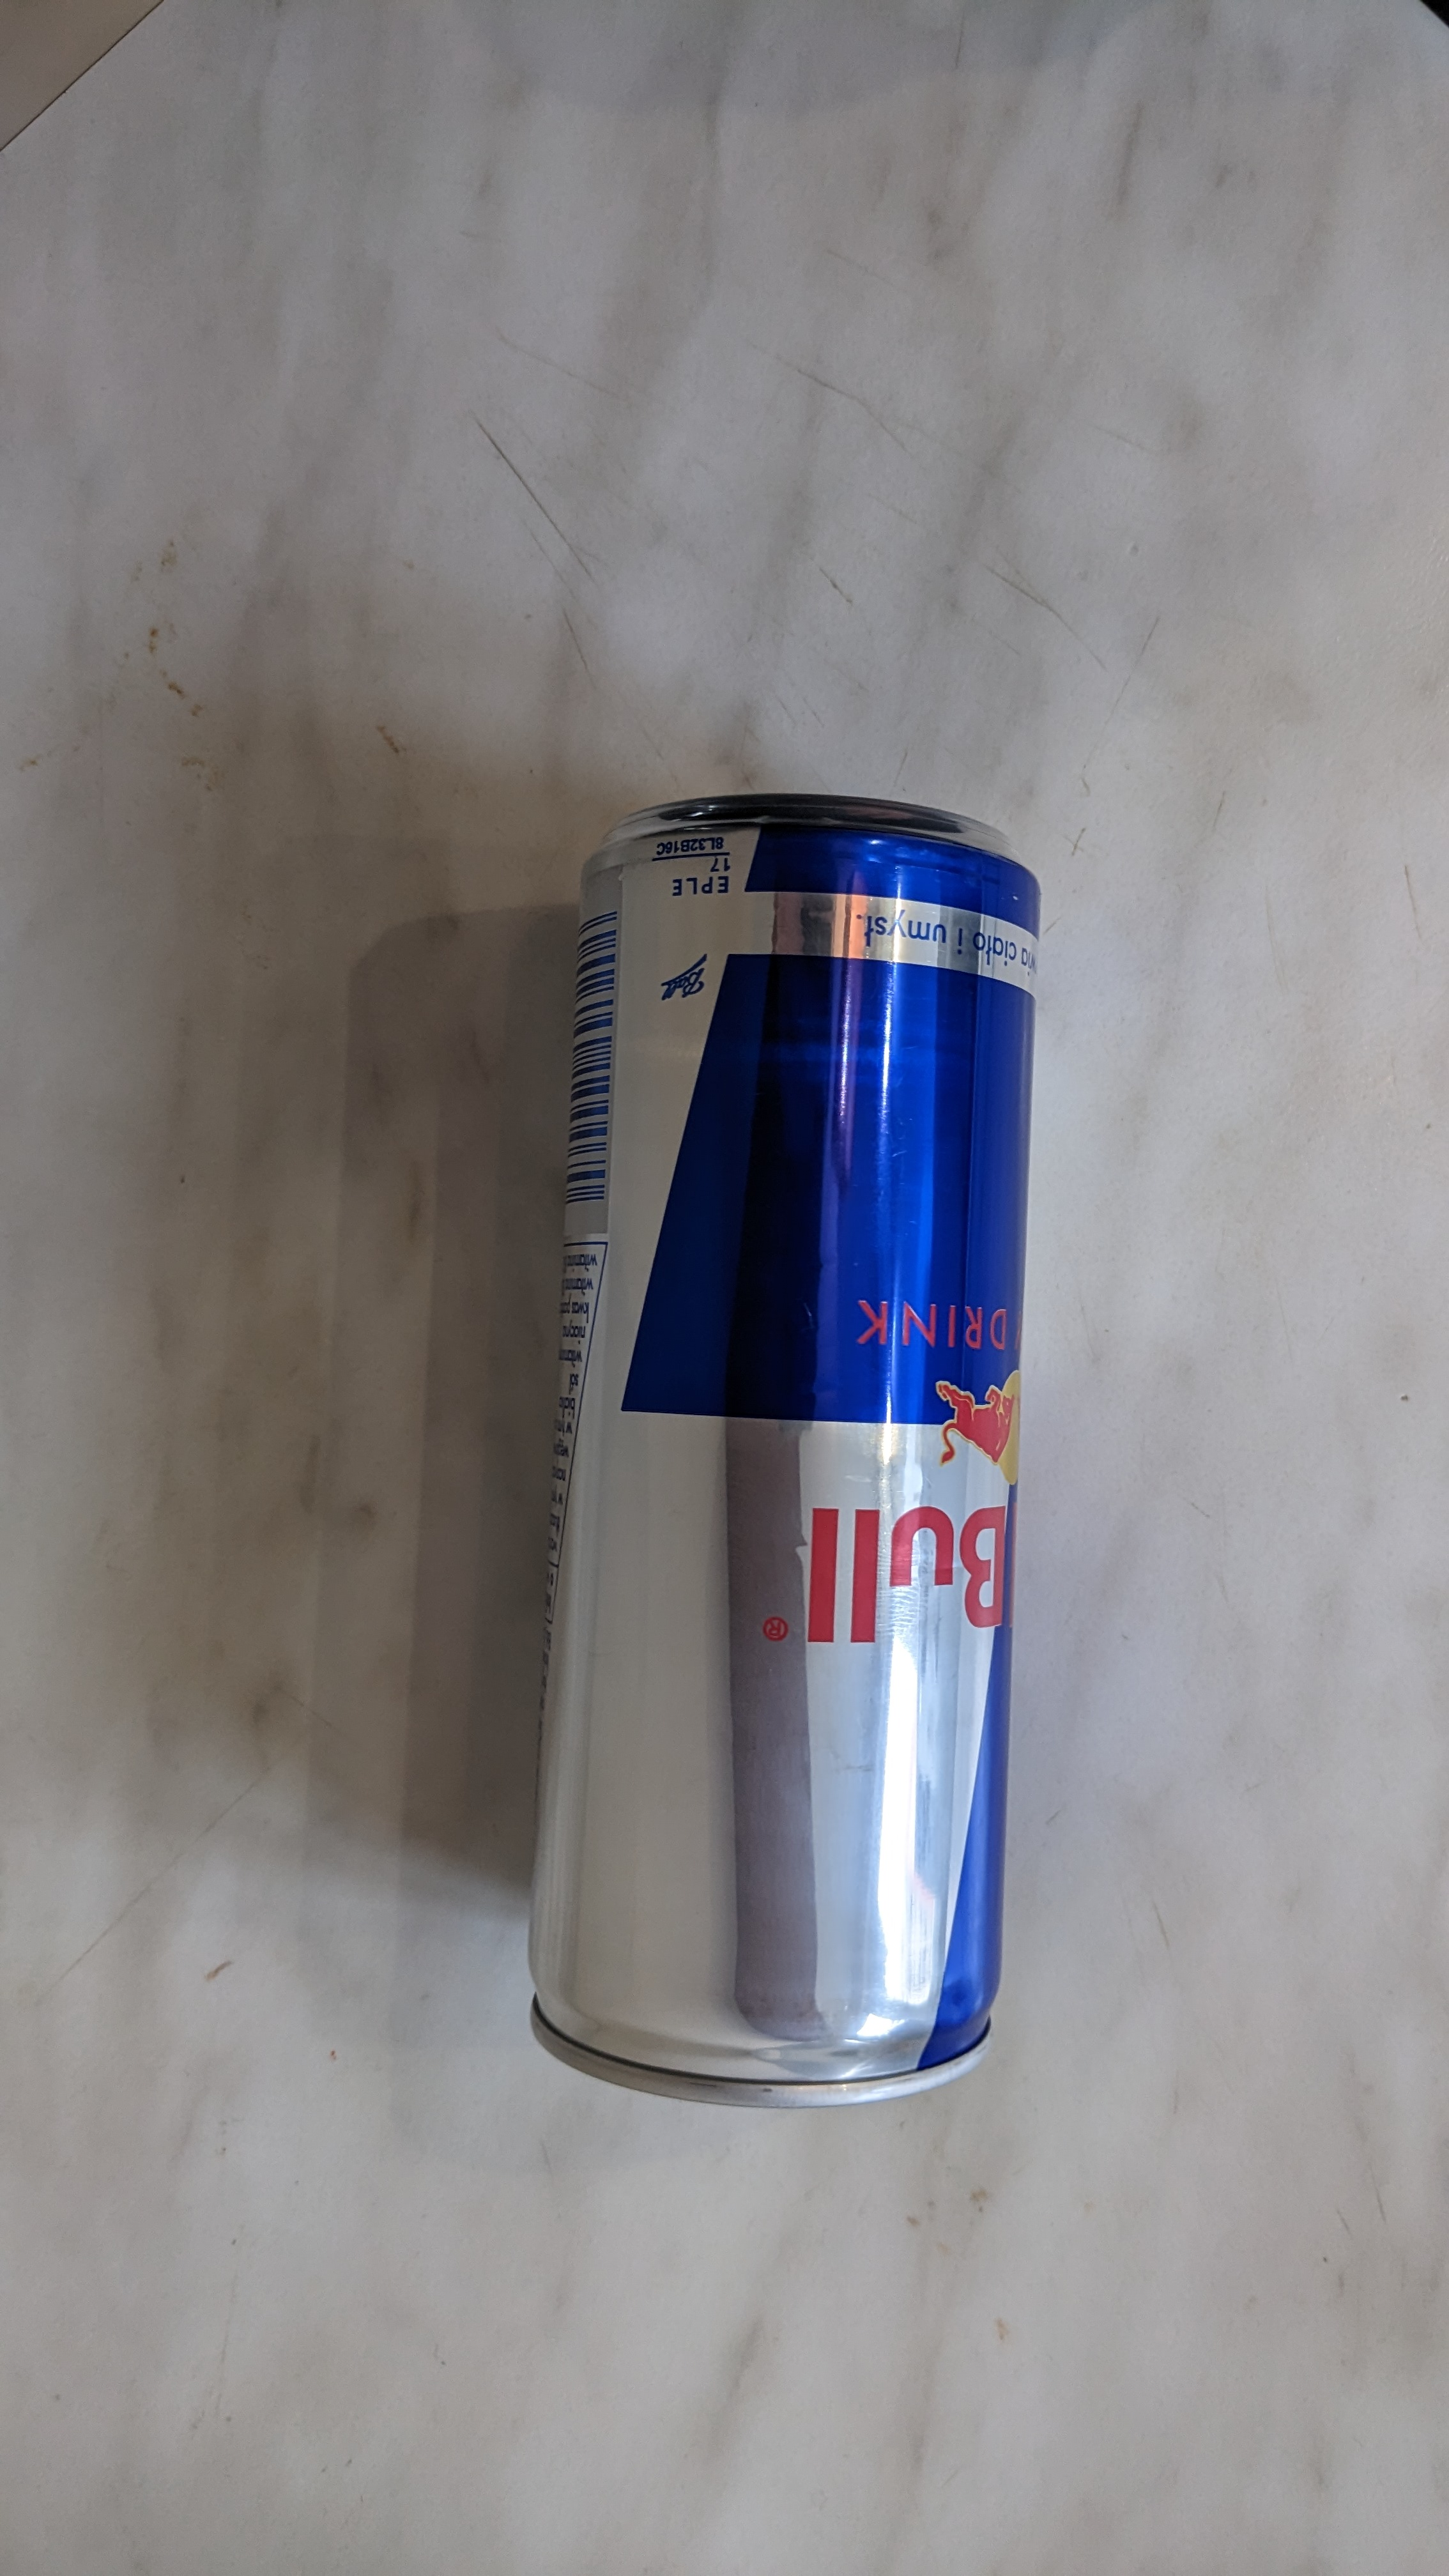red-bull: (504, 773, 1049, 2123)
